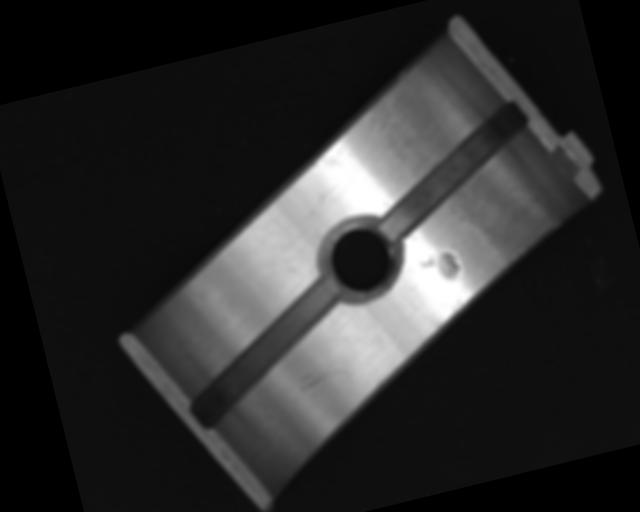bruise: (417, 248, 463, 287)
gap: (172, 274, 362, 430), (359, 100, 548, 243)
hole: (315, 210, 407, 309)
nick: (295, 360, 355, 393)
